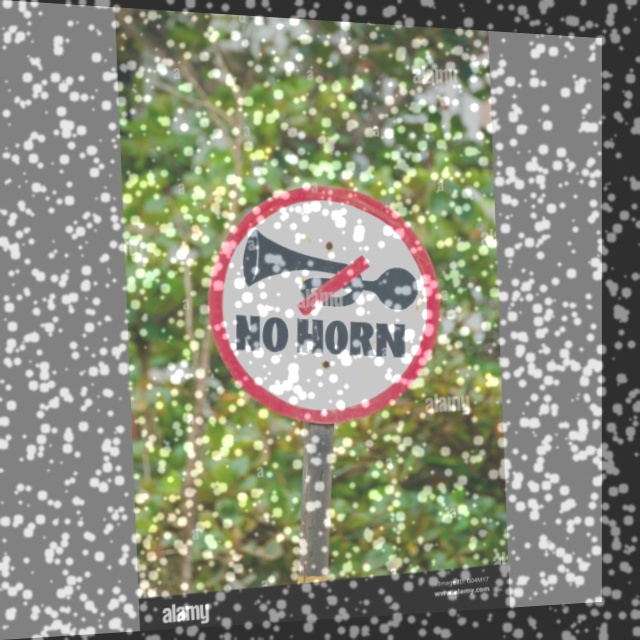Horn_Prohibited: (208, 174, 442, 433)
